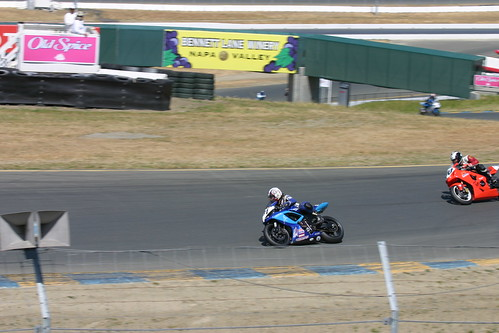helmet: (264, 182, 283, 200), (447, 143, 462, 163)
